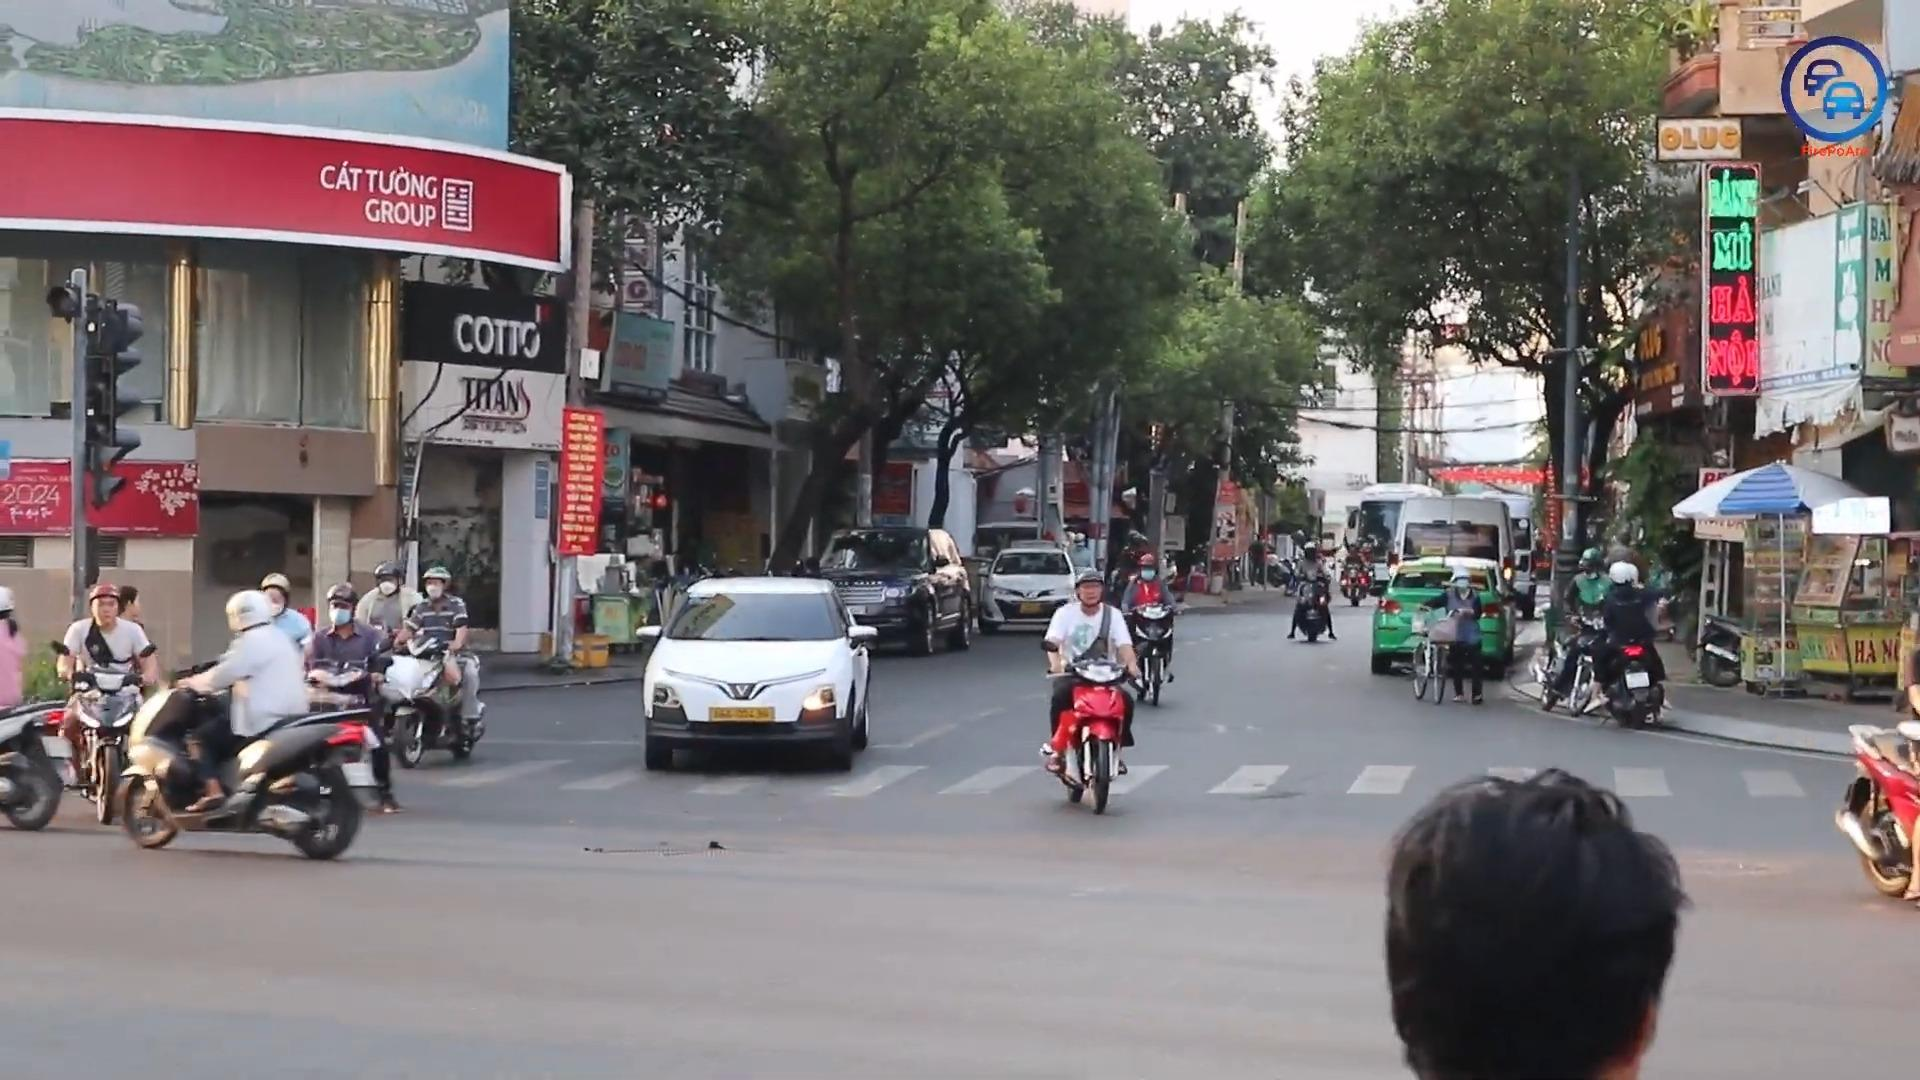bien_so: (706, 704, 777, 724), (341, 761, 379, 788), (1624, 671, 1651, 689), (1018, 601, 1043, 614)
